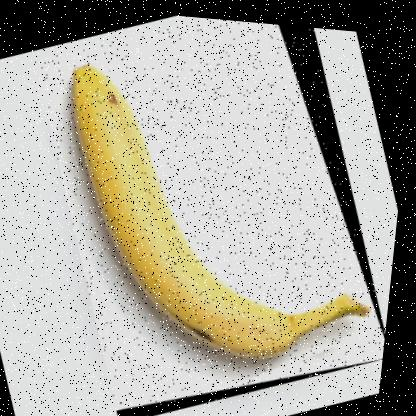banana: (4, 2, 415, 416)
